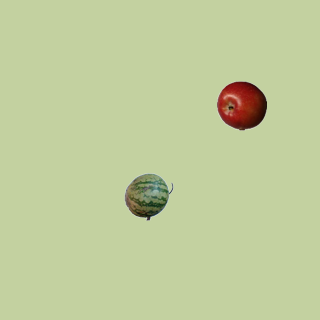Apple Braeburn: (216, 80, 266, 130)
Watermelon: (123, 171, 173, 221)
